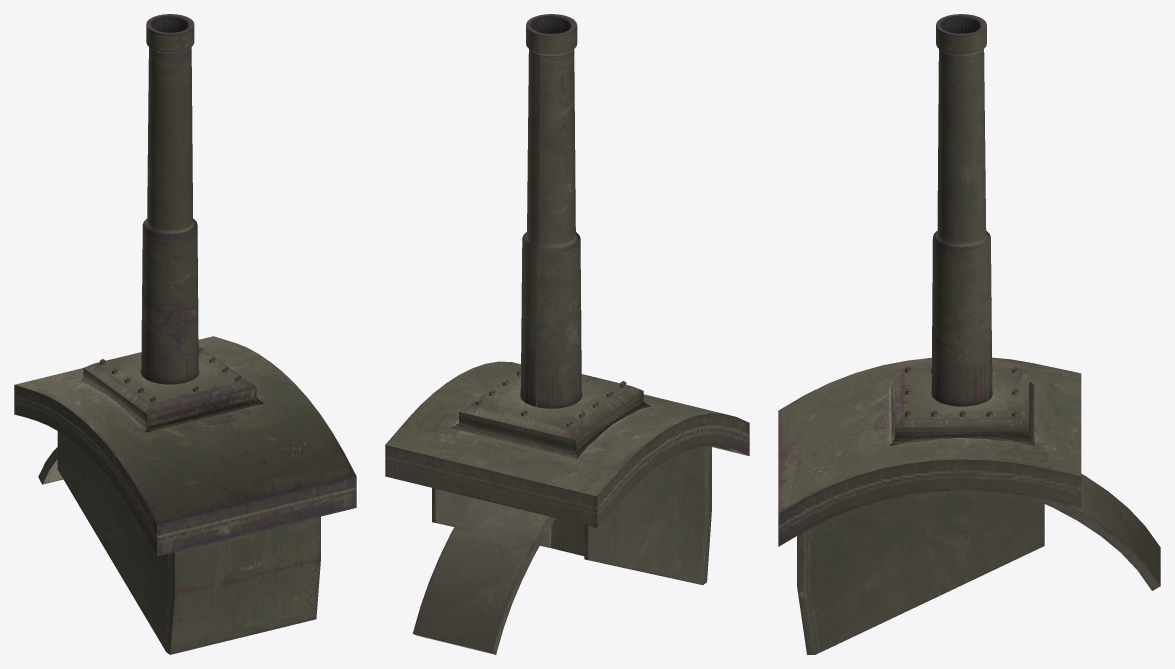
Rendered from Gun_02.glb.
The picture shows the model from 3 angles, left to right: view 1: azimuth 30°, elevation 25°; view 2: azimuth 150°, elevation 25°; view 3: azimuth 270°, elevation 25°; orthographic projection. The views are drawn at different scales.
Visible parts, largest first — view 1: set_0_group_0; view 2: set_0_group_0; view 3: set_0_group_0.
Boxes of the visible parts, x1,y1,x2,y2 form: set_0_group_0: (14, 14, 356, 654); set_0_group_0: (385, 14, 749, 654); set_0_group_0: (778, 14, 1160, 654).
Bounding box in the file's own units: 1.27 × 3.4 × 1.99.
Materials: 1 (1 with a texture image).
